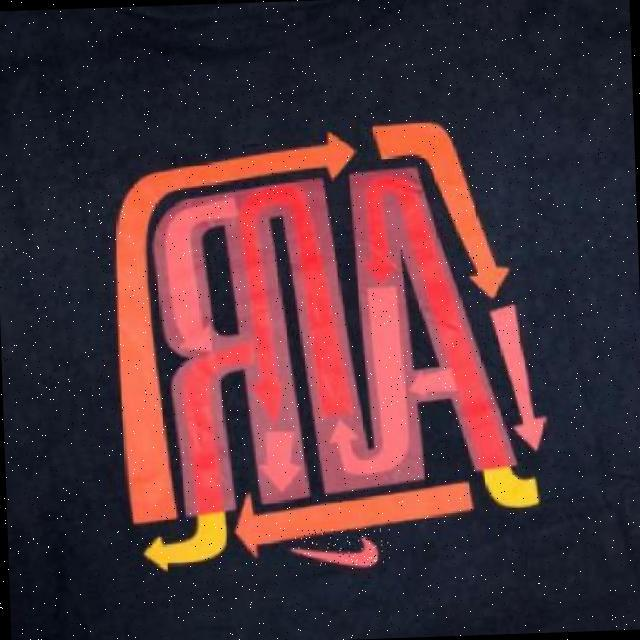Nike: (293, 527, 391, 566)
